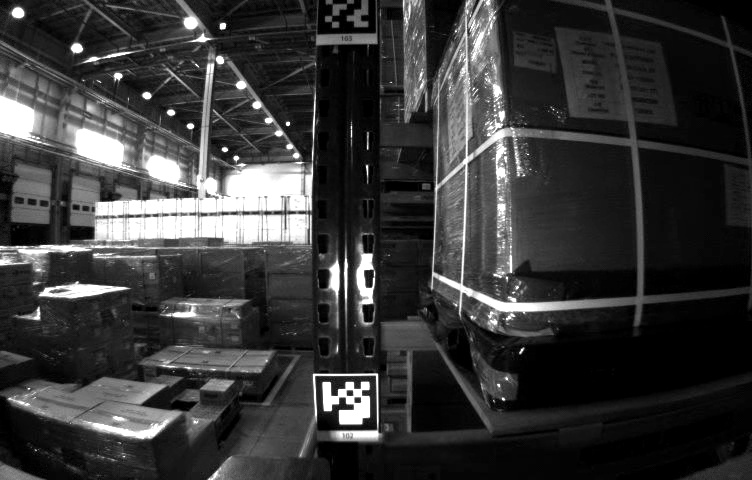True Barcode: (511, 28, 557, 78)
